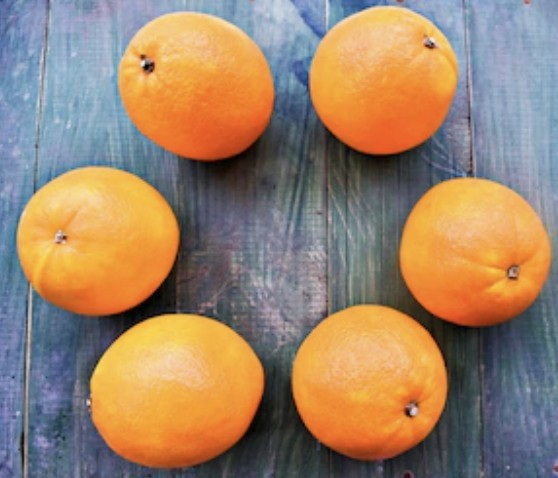fresh_orange: (85, 314, 264, 465), (293, 304, 448, 459), (16, 167, 180, 312), (308, 6, 458, 155), (123, 13, 274, 159), (402, 177, 549, 325)
